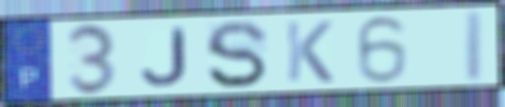3: (64, 21, 119, 99)
6: (353, 13, 411, 86)
I: (460, 8, 487, 85)
J: (138, 25, 191, 88)
K: (282, 19, 336, 85)
S: (202, 18, 272, 91)
